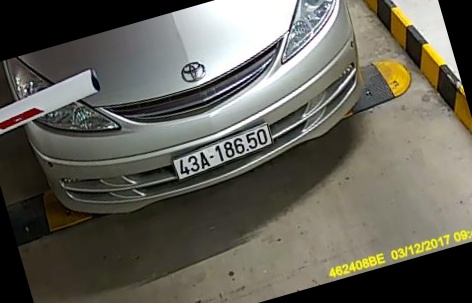plate: (166, 123, 283, 181)
